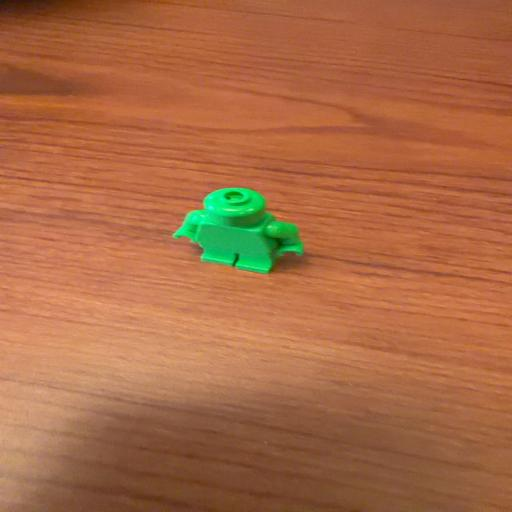UnoQ-minifig-detector: (173, 185, 303, 274)
